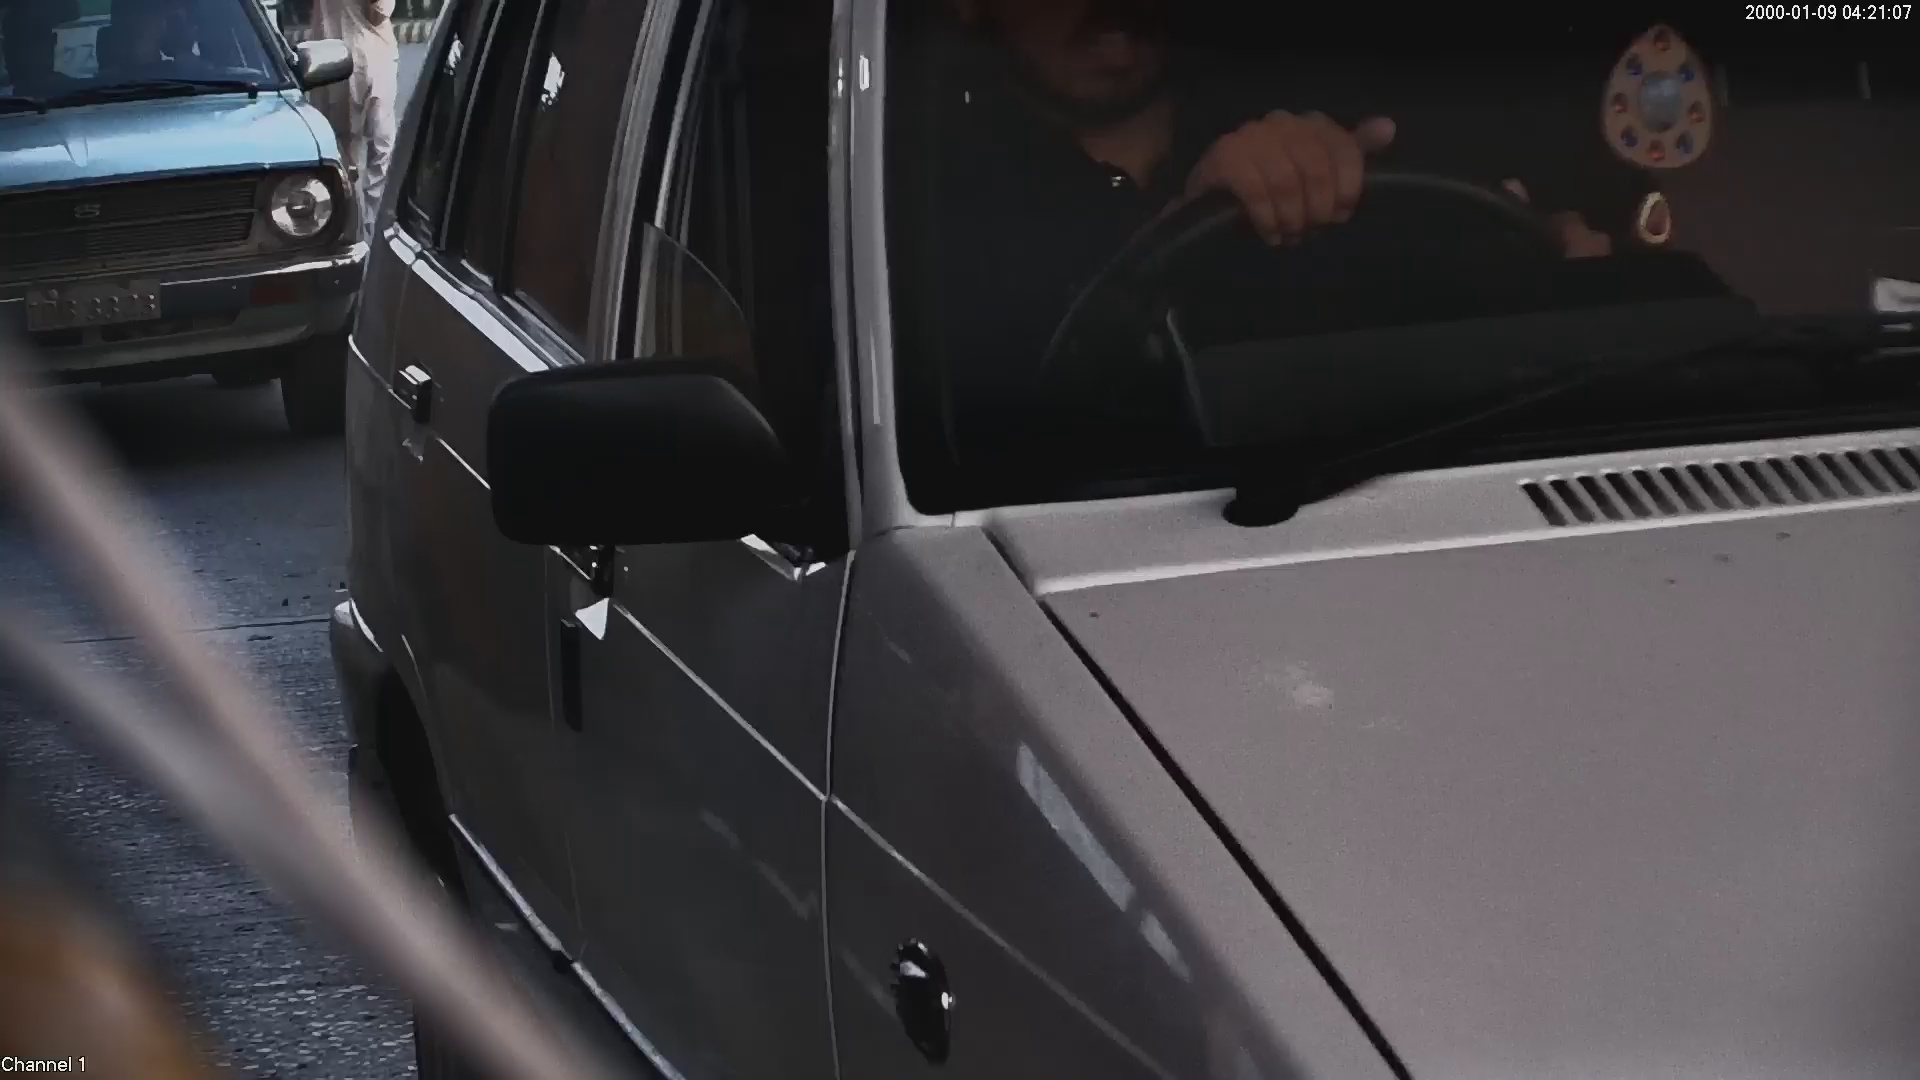Number_Plate: (17, 277, 180, 338)
